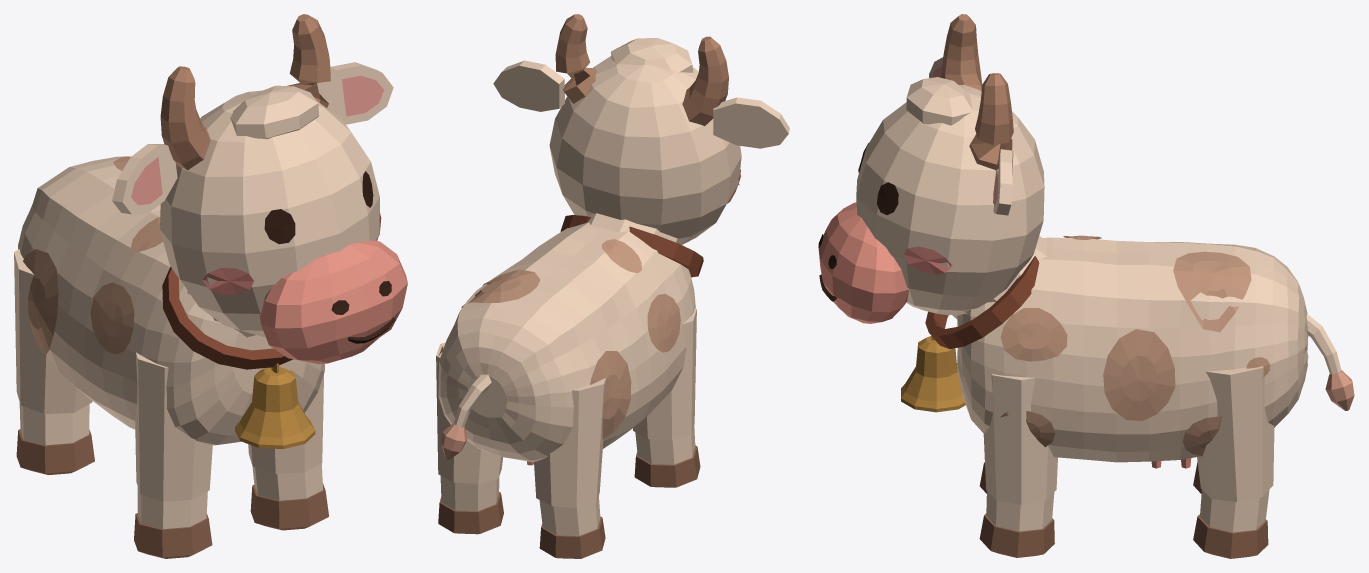
Rendered from cow-charming.glb.
The picture shows the model from 3 angles, left to right: view 1: azimuth 30°, elevation 25°; view 2: azimuth 150°, elevation 25°; view 3: azimuth 270°, elevation 25°; orthographic projection. The views are drawn at different scales.
Visible parts, largest first — view 1: head, body, muzzle, leg_fl_upper, body_patches, leg_hl_upper, bell, horn_r, collar, horn_l, leg_fr_upper, ear_r (+11 smaller); view 2: body, head, body_patches, leg_hl_upper, leg_fl_upper, ear_r, ear_l, horn_r, leg_hr_upper, horn_l, leg_hl_lower, leg_fl_hoof (+8 smaller); view 3: body, head, body_patches, leg_hr_upper, muzzle, leg_fr_upper, bell, collar, horn_l, horn_r, leg_hr_lower, leg_fr_hoof (+7 smaller).
Part boxes in pixels (bbox=[...]): head: bbox=[160, 85, 379, 336]; body: bbox=[18, 156, 324, 445]; muzzle: bbox=[259, 239, 407, 364]; leg_fl_upper: bbox=[135, 352, 212, 501]; body_patches: bbox=[23, 156, 163, 354]; leg_hl_upper: bbox=[14, 249, 92, 413]; bell: bbox=[235, 363, 315, 448]; horn_r: bbox=[160, 66, 210, 170]; collar: bbox=[162, 267, 292, 369]; horn_l: bbox=[287, 14, 330, 107]; leg_fr_upper: bbox=[248, 374, 323, 473]; ear_r: bbox=[112, 144, 177, 214]; body: bbox=[438, 222, 695, 462]; head: bbox=[549, 38, 741, 244]; body_patches: bbox=[437, 239, 680, 438]; leg_hl_upper: bbox=[534, 378, 605, 507]; leg_fl_upper: bbox=[633, 308, 696, 440]; ear_r: bbox=[713, 97, 789, 148]; ear_l: bbox=[493, 60, 564, 111]; horn_r: bbox=[682, 36, 728, 126]; leg_hr_upper: bbox=[436, 342, 502, 483]; horn_l: bbox=[555, 14, 596, 103]; leg_hl_lower: bbox=[539, 496, 600, 535]; leg_fl_hoof: bbox=[634, 445, 700, 487]; body: bbox=[957, 237, 1308, 462]; head: bbox=[856, 77, 1044, 315]; body_patches: bbox=[1000, 235, 1269, 456]; leg_hr_upper: bbox=[1197, 366, 1274, 501]; muzzle: bbox=[818, 202, 908, 323]; leg_fr_upper: bbox=[983, 374, 1057, 504]; bell: bbox=[901, 336, 965, 412]; collar: bbox=[925, 256, 1039, 348]; horn_l: bbox=[969, 73, 1013, 170]; horn_r: bbox=[941, 14, 982, 91]; leg_hr_lower: bbox=[1200, 490, 1269, 532]; leg_fr_hoof: bbox=[979, 513, 1054, 557].
Size of the model in its own units: 1.48 by 2.31 by 2.36.
